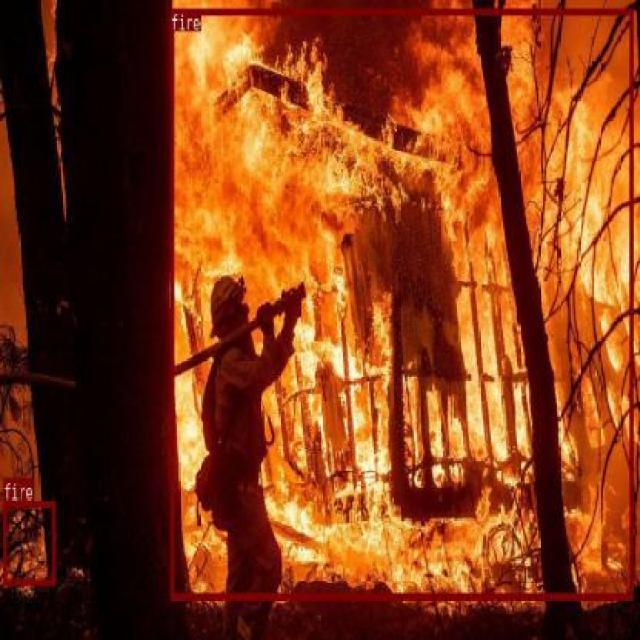Fire: (170, 9, 633, 598), (2, 500, 55, 585)
